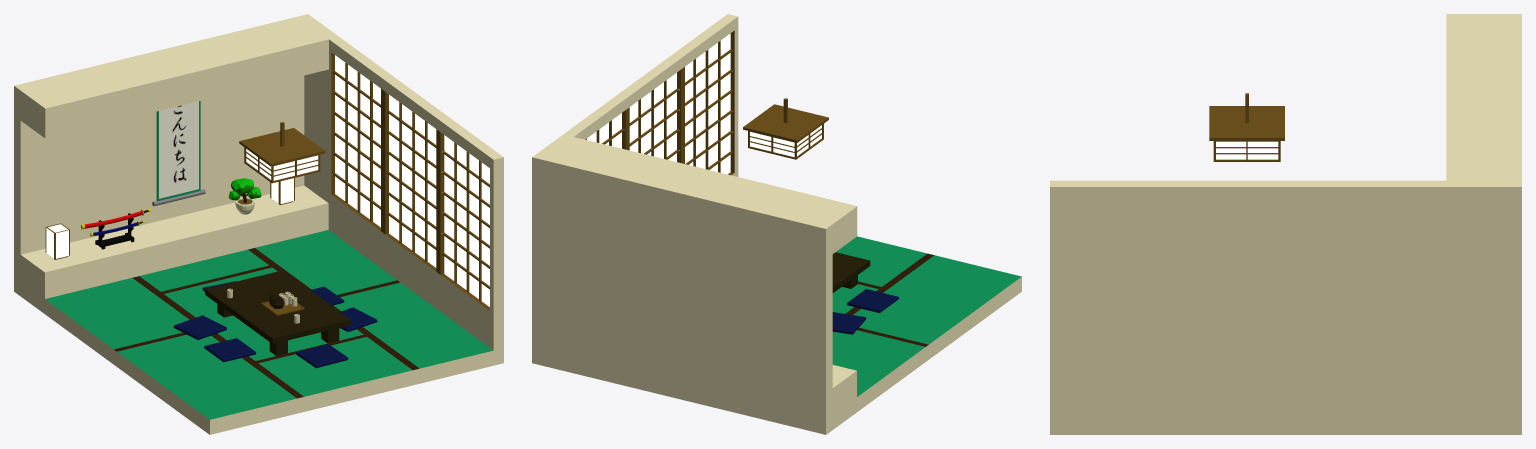
Rendered from optimized-room.glb.
3 renders of one model, left to right at view 1: azimuth 30°, elevation 25°; view 2: azimuth 150°, elevation 25°; view 3: azimuth 270°, elevation 25°, orthographic. The views are drawn at different scales.
Parts seen in each view (by area): view 1: Object_19, Object_2, Object_20, Object_10, Object_17, Object_7, Object_13, Object_14, Object_3; view 2: Object_19, Object_2, Object_20, Object_10, Object_13, Object_17, Object_14; view 3: Object_19, Object_10, Object_20.
Part boxes in pixels (box(x1,y1,x2,y2)): Object_19: box(14, 14, 503, 434); Object_2: box(45, 230, 492, 419); Object_20: box(46, 55, 489, 306); Object_10: box(45, 52, 489, 315); Object_17: box(205, 270, 350, 355); Object_7: box(159, 101, 198, 198); Object_13: box(173, 281, 377, 368); Object_14: box(114, 193, 419, 398); Object_3: box(156, 101, 200, 201); Object_19: box(532, 14, 1021, 434); Object_2: box(832, 236, 1021, 396); Object_20: box(587, 33, 821, 174); Object_10: box(585, 30, 828, 175); Object_13: box(832, 289, 898, 334); Object_17: box(832, 252, 870, 292); Object_14: box(845, 253, 934, 346); Object_19: box(1050, 14, 1521, 434); Object_10: box(1209, 93, 1284, 161); Object_20: box(1216, 141, 1278, 159).
Size of the model in its own units: 5.99 by 4.18 by 6.91.
18 materials, 1 textured.
